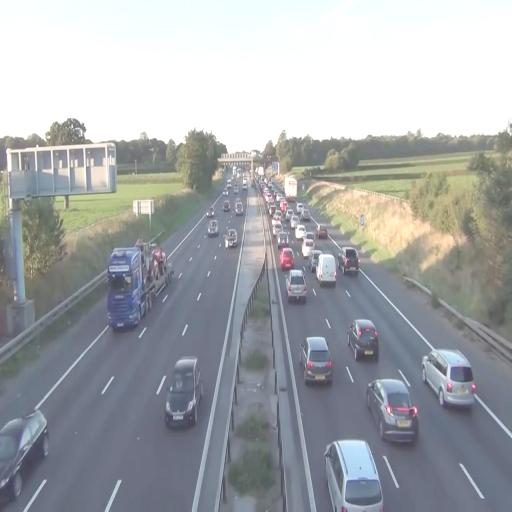vehicle: (0, 410, 49, 502), (323, 438, 383, 512), (365, 375, 419, 446), (106, 246, 150, 332), (422, 348, 477, 410), (164, 356, 203, 429), (303, 336, 334, 386), (347, 318, 380, 363), (286, 268, 308, 301), (316, 253, 337, 286), (340, 248, 360, 275), (280, 247, 294, 274), (224, 226, 239, 249), (208, 218, 218, 236)
